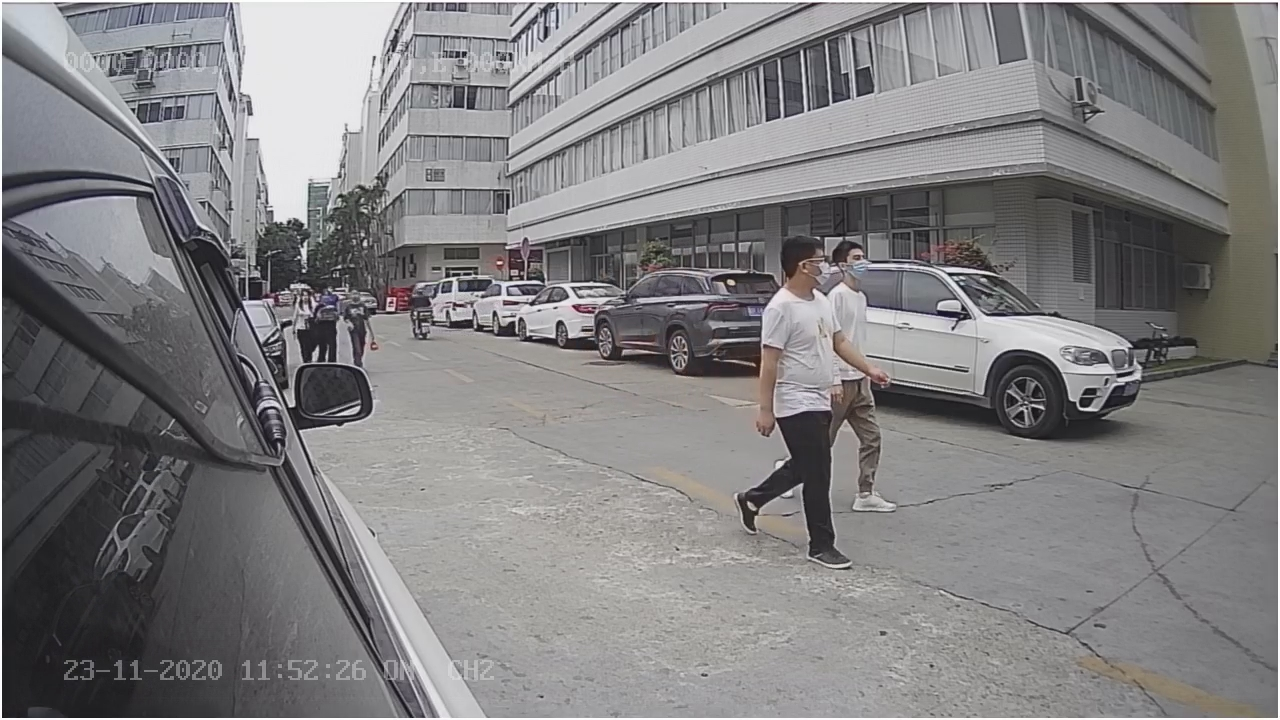person: (754, 230, 846, 573)
